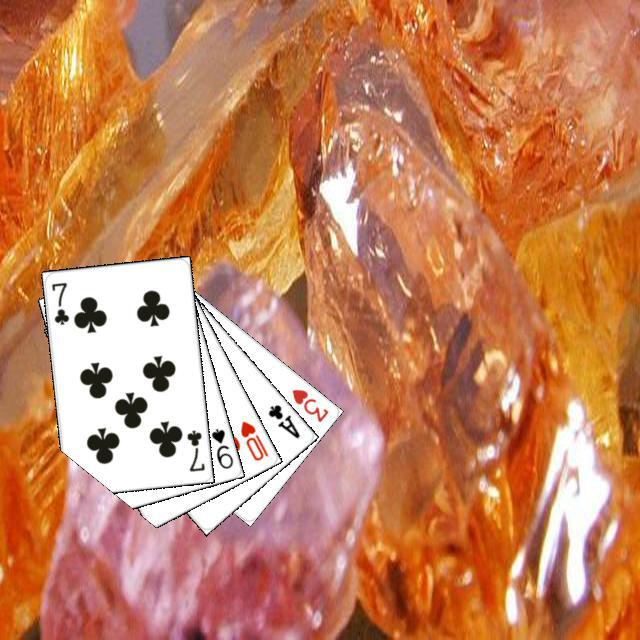10h: (235, 416, 270, 463)
3h: (287, 384, 330, 424)
7c: (47, 277, 71, 326), (182, 425, 206, 473)
9s: (206, 424, 235, 470)
Ac: (263, 399, 302, 440)
